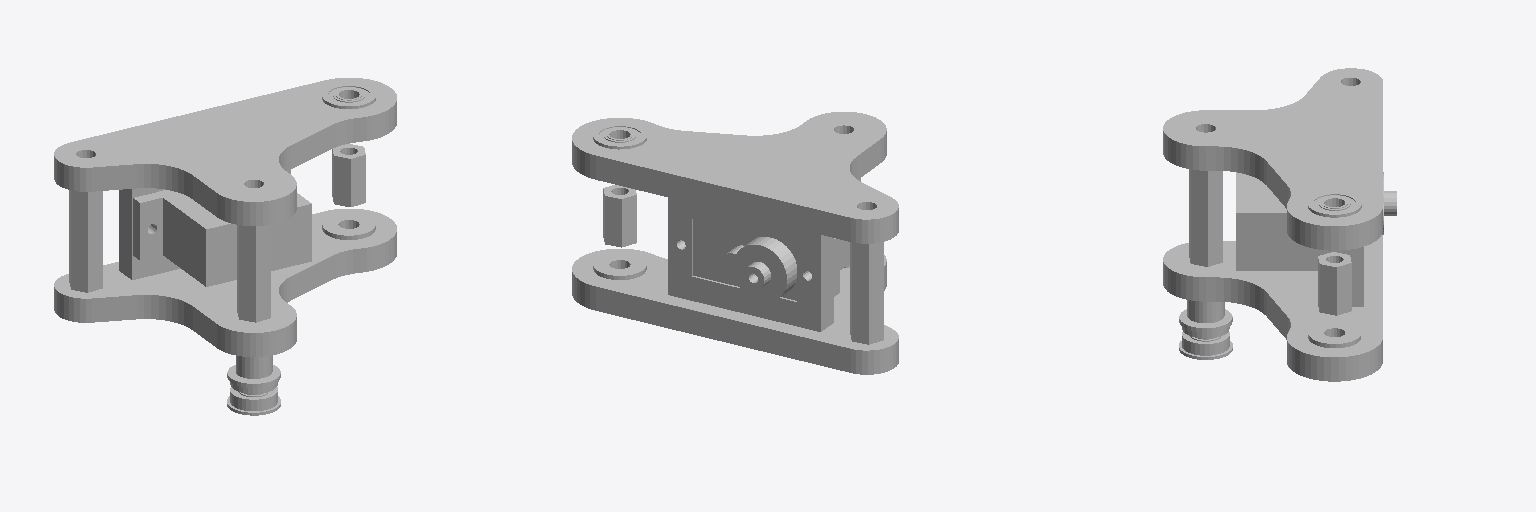
File: wrist.obj
3 views of the same model, side by side, from view 1: azimuth 30°, elevation 25°; view 2: azimuth 150°, elevation 25°; view 3: azimuth 270°, elevation 25° (orthographic).
Visible parts, largest first — view 1: wrist; view 2: wrist; view 3: wrist.
Boxes of the visible parts, box(x1,y1,x2,y2) form: wrist: box(54, 78, 396, 415); wrist: box(572, 112, 898, 374); wrist: box(1163, 68, 1396, 381).
Bounding box in the file's own units: 7 × 4.62 × 4.37.